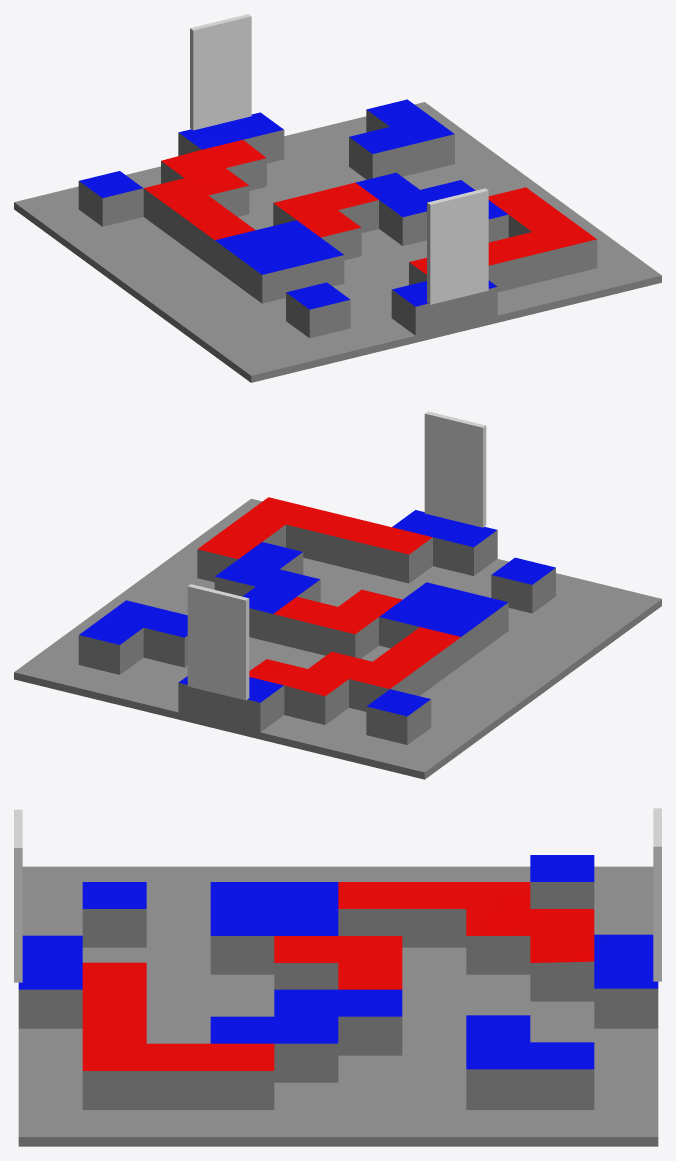
File: InvisibleDripPathPuzzle.FBX
3 views of the same model, one above another, from view 1: azimuth 30°, elevation 25°; view 2: azimuth 150°, elevation 25°; view 3: azimuth 270°, elevation 25° (orthographic). The views are drawn at different scales.
Visible parts, largest first — view 1: LevelFloor, ExitDoor, EntranceDoor; view 2: LevelFloor, ExitDoor, EntranceDoor; view 3: LevelFloor, ExitDoor, EntranceDoor.
Boxes of the visible parts, x1=… form: LevelFloor: x1=14, y1=99, x2=661, y2=382; ExitDoor: x1=427, y1=188, x2=488, y2=304; EntranceDoor: x1=190, y1=14, x2=251, y2=130; LevelFloor: x1=14, y1=497, x2=661, y2=779; ExitDoor: x1=424, y1=411, x2=486, y2=527; EntranceDoor: x1=187, y1=584, x2=249, y2=700; LevelFloor: x1=18, y1=855, x2=658, y2=1146; ExitDoor: x1=14, y1=809, x2=22, y2=982; EntranceDoor: x1=653, y1=808, x2=661, y2=981.
Bounding box in the file's own units: 591 × 188 × 598.
